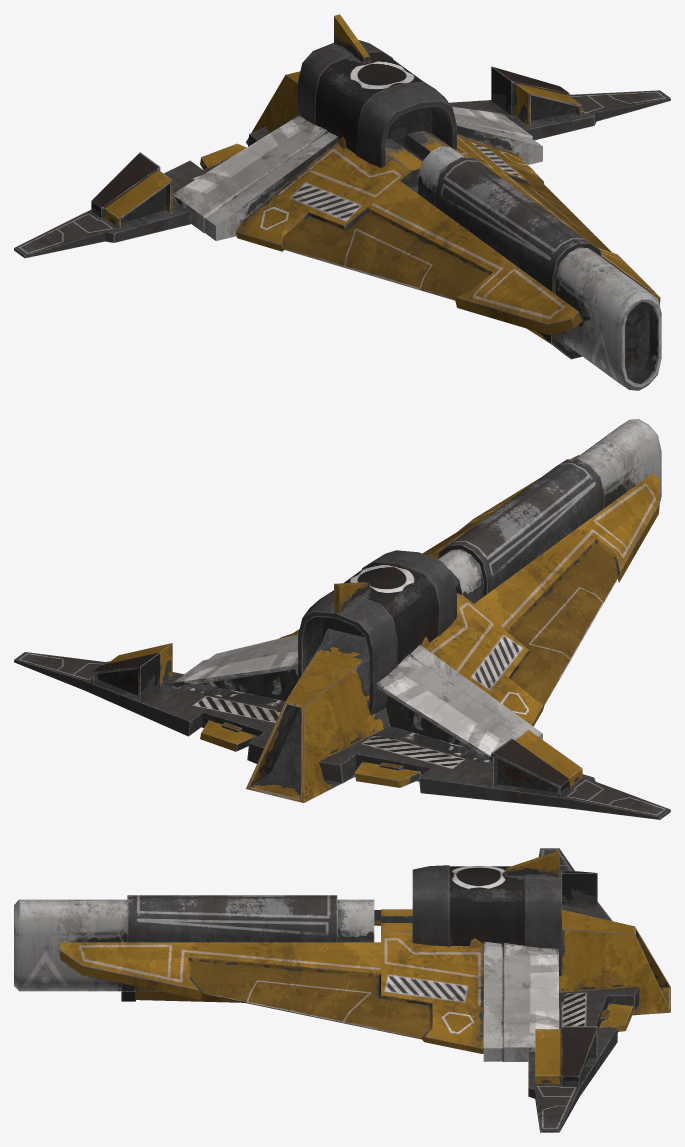
The model's file is Omen.glb.
3 views of the same model, one above another, from view 1: azimuth 30°, elevation 25°; view 2: azimuth 150°, elevation 25°; view 3: azimuth 270°, elevation 25° (orthographic). The views are drawn at different scales.
Parts seen in each view (by area): view 1: Omen; view 2: Omen; view 3: Omen.
Boxes of the visible parts, box(x1,y1,x2,y2) form: Omen: box(14, 14, 670, 390); Omen: box(14, 419, 670, 819); Omen: box(14, 848, 670, 1132).
Bounding box in the file's own units: 12.78 × 3.14 × 12.58.
1 material, 1 textured.
